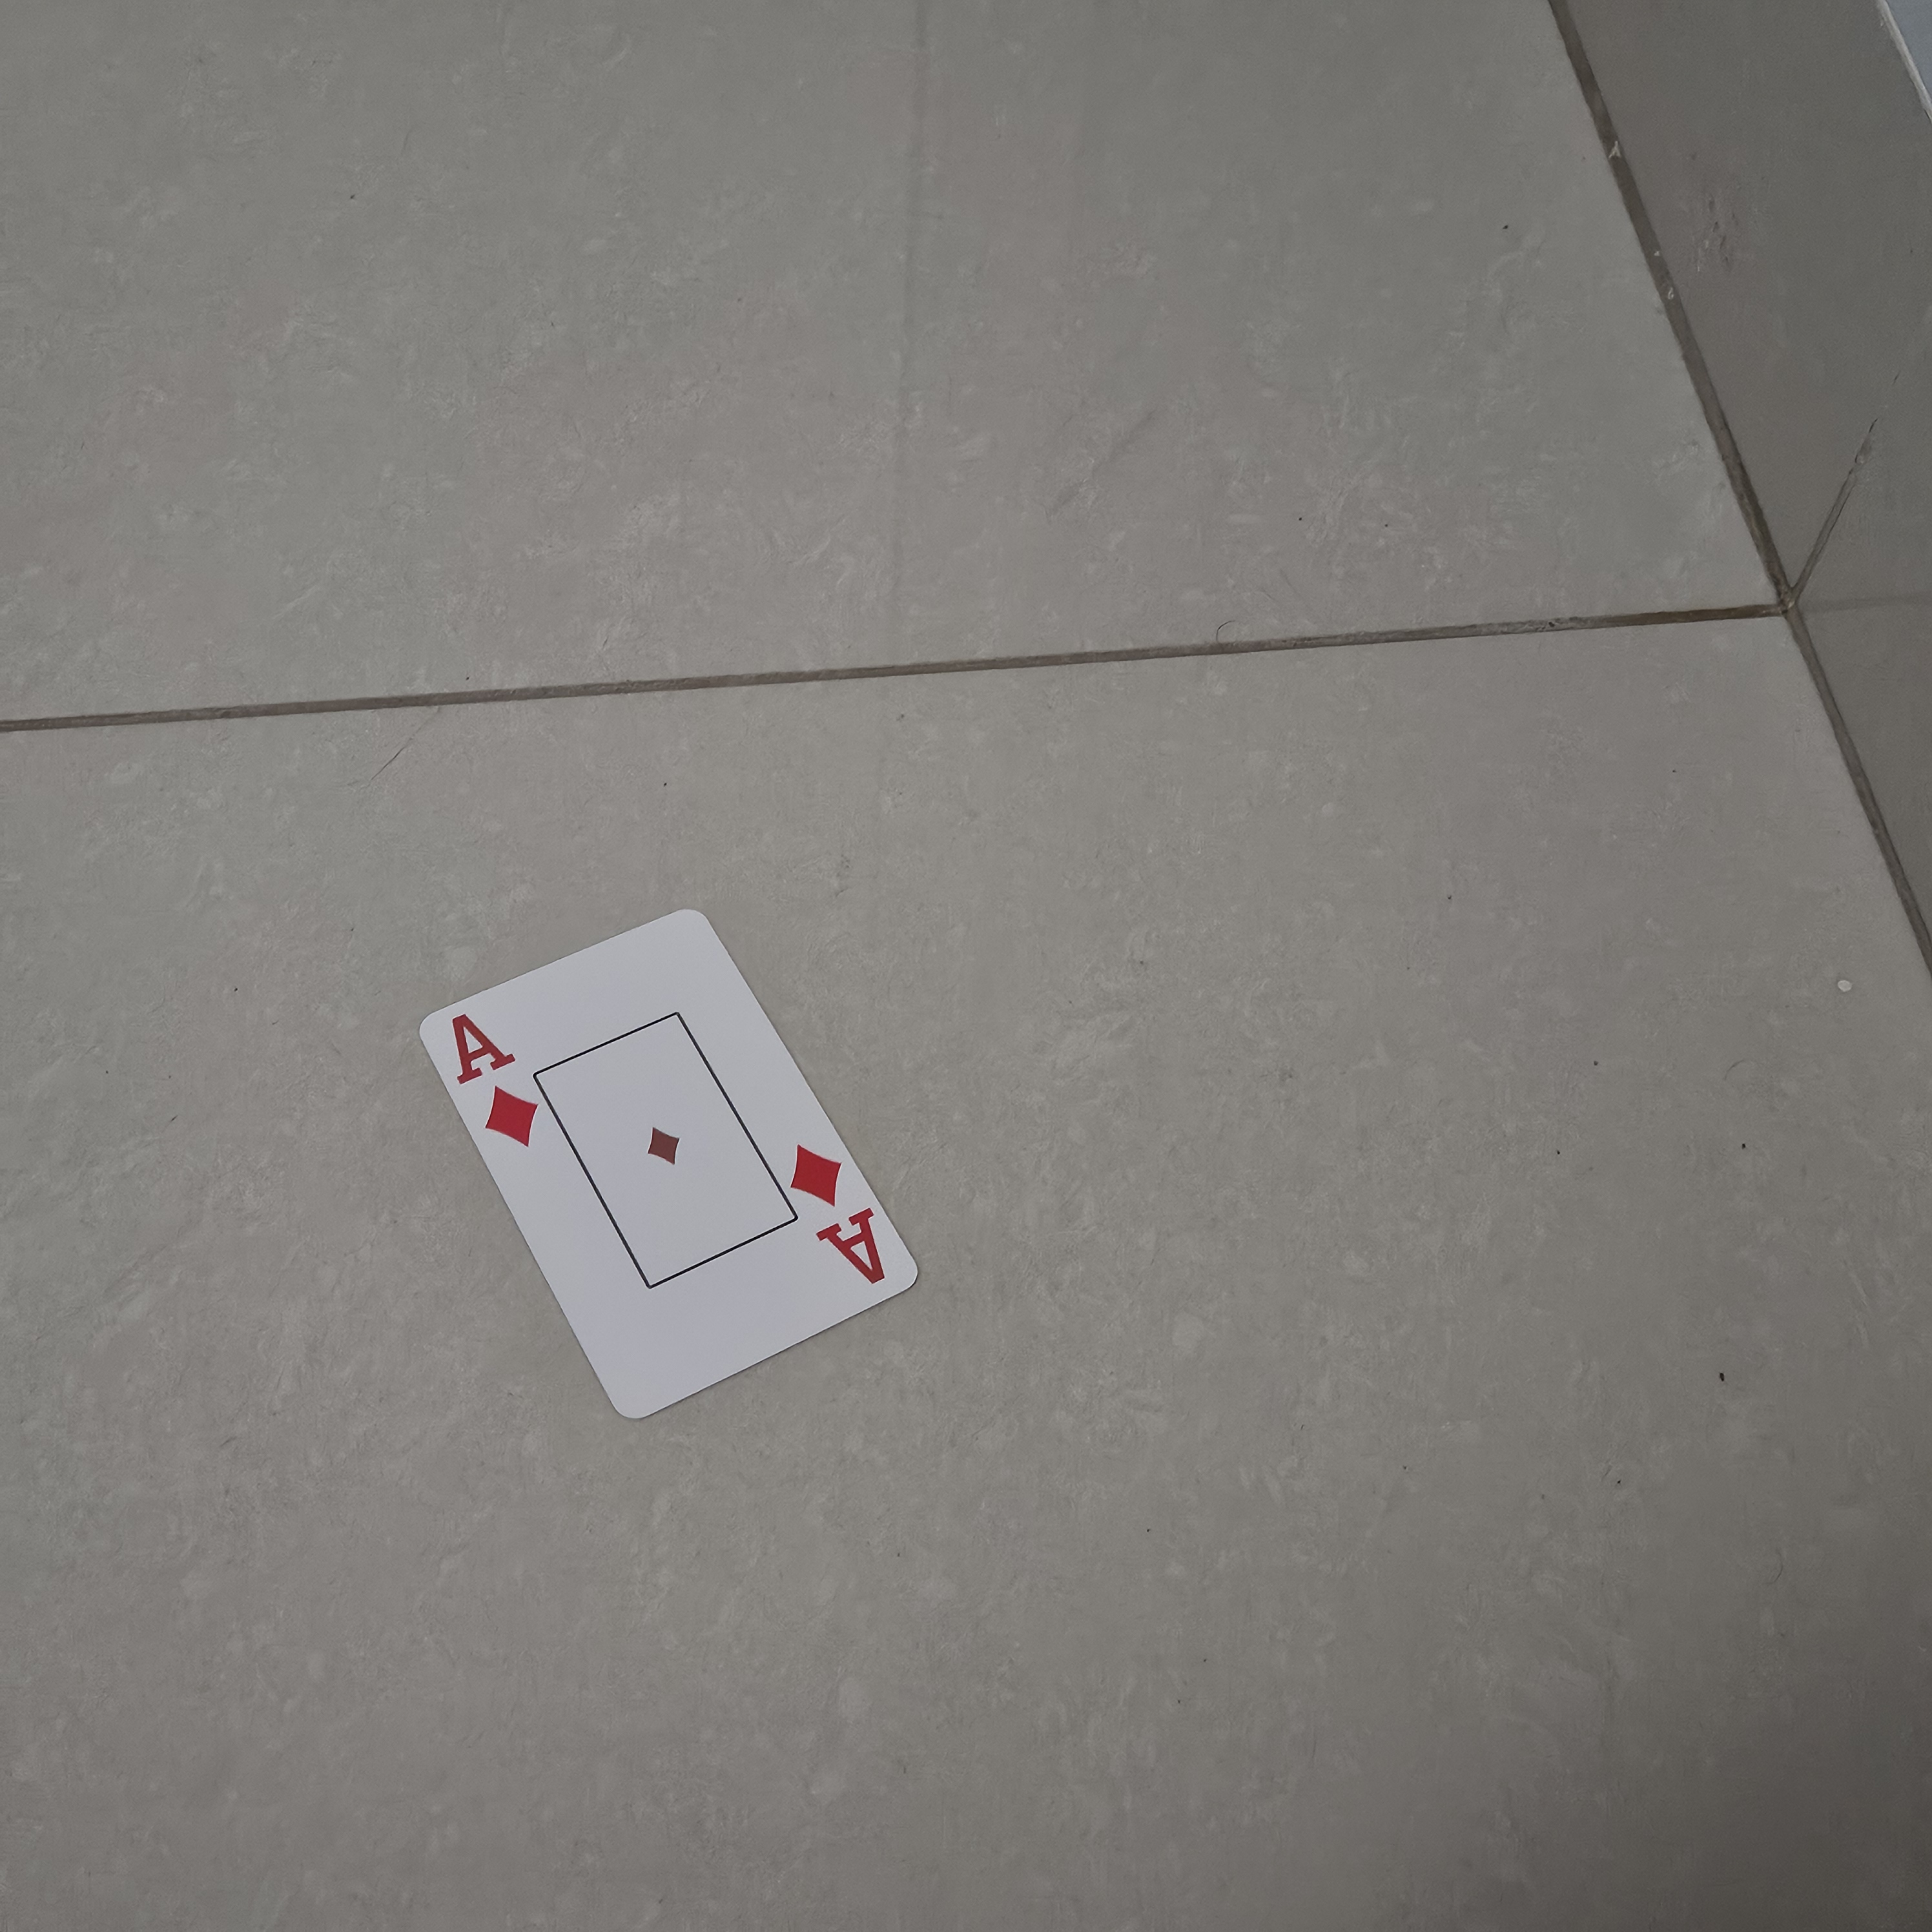AO: (778, 1122, 902, 1306), (435, 1001, 550, 1162)
